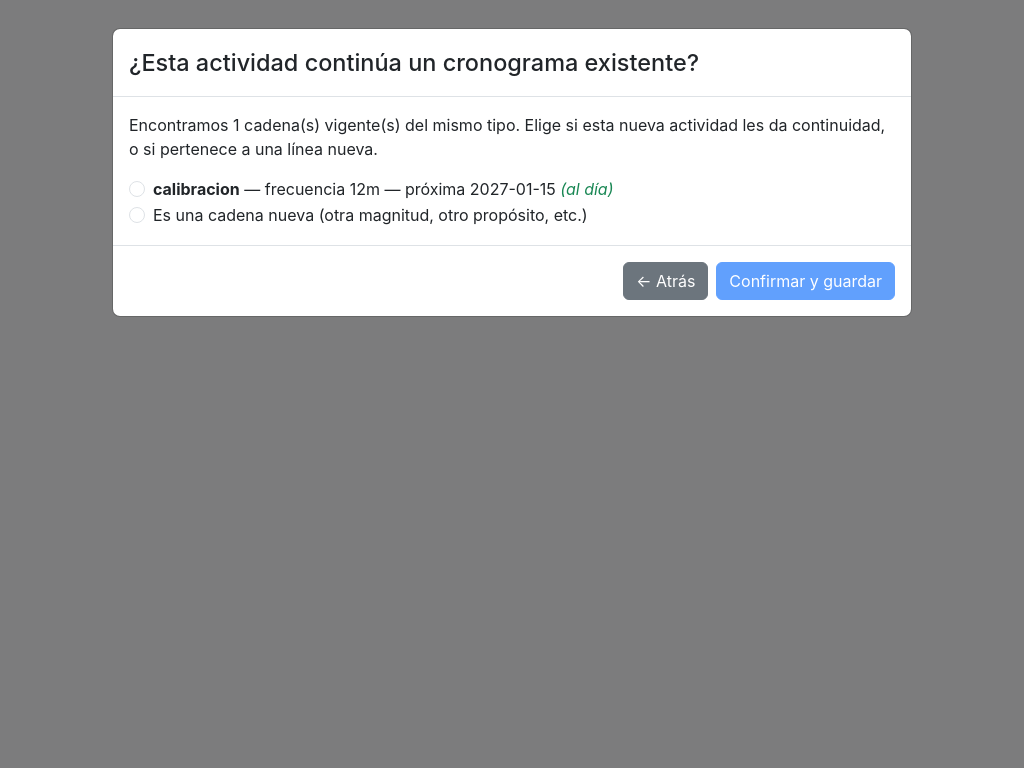
Test: ContinuidadCadenaModal › al seleccionar una cadena con frecuencia distinta muestra banner de alerta
This screenshot has width=1024, height=768.
Step 1. Click the radio button labelled "calibracion — frecuencia 12m — próxima 2027-01-15 (al día)" → point(137, 189), box [129,181,145,197]
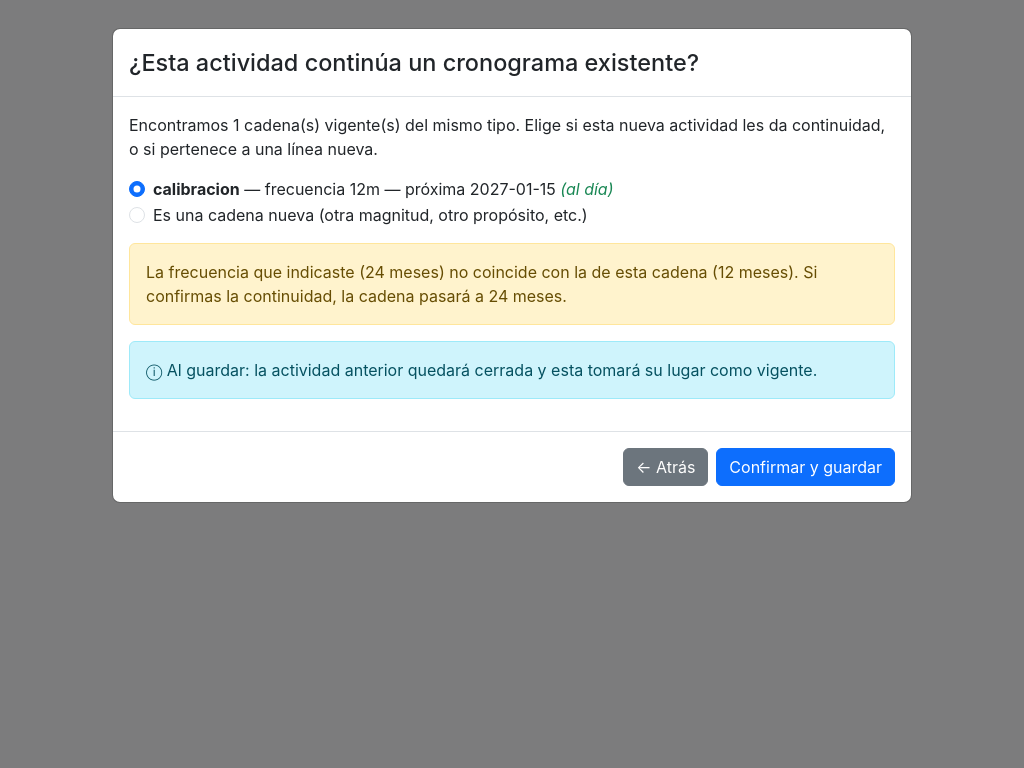
expect the text "no coincide" is shown: met, box [385,262,718,282]
